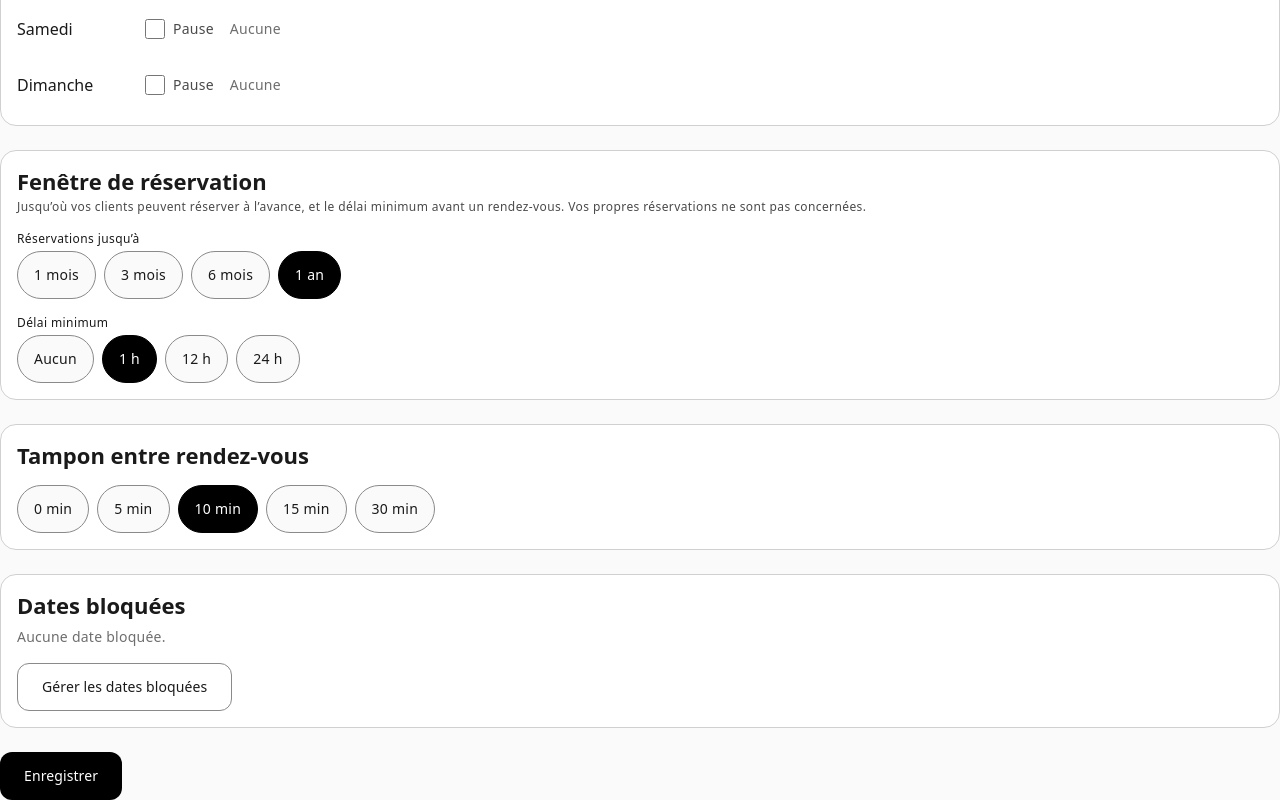
Test: §2.2 — blocked dates, the app’s flow › closing with changes asks first
(page scrolled)
Check: the heading "Fenêtre de réservation" is shown, box 17,166 -> 267,196
Click the button "Gérer les dates bloquées". click: [125, 687]
box: 17,663 -> 232,711
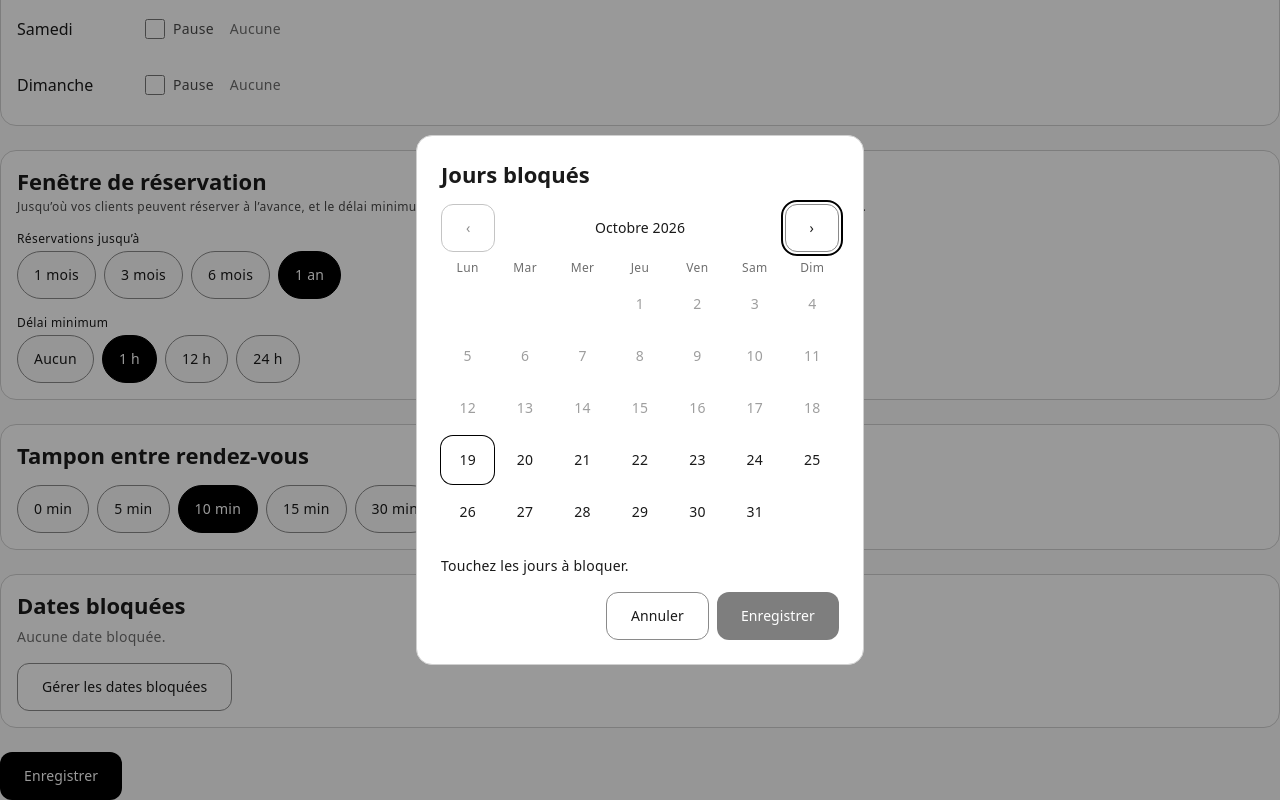
Click the button named "25 octobre 2026". click: [812, 460]
box: 786,436 -> 839,484
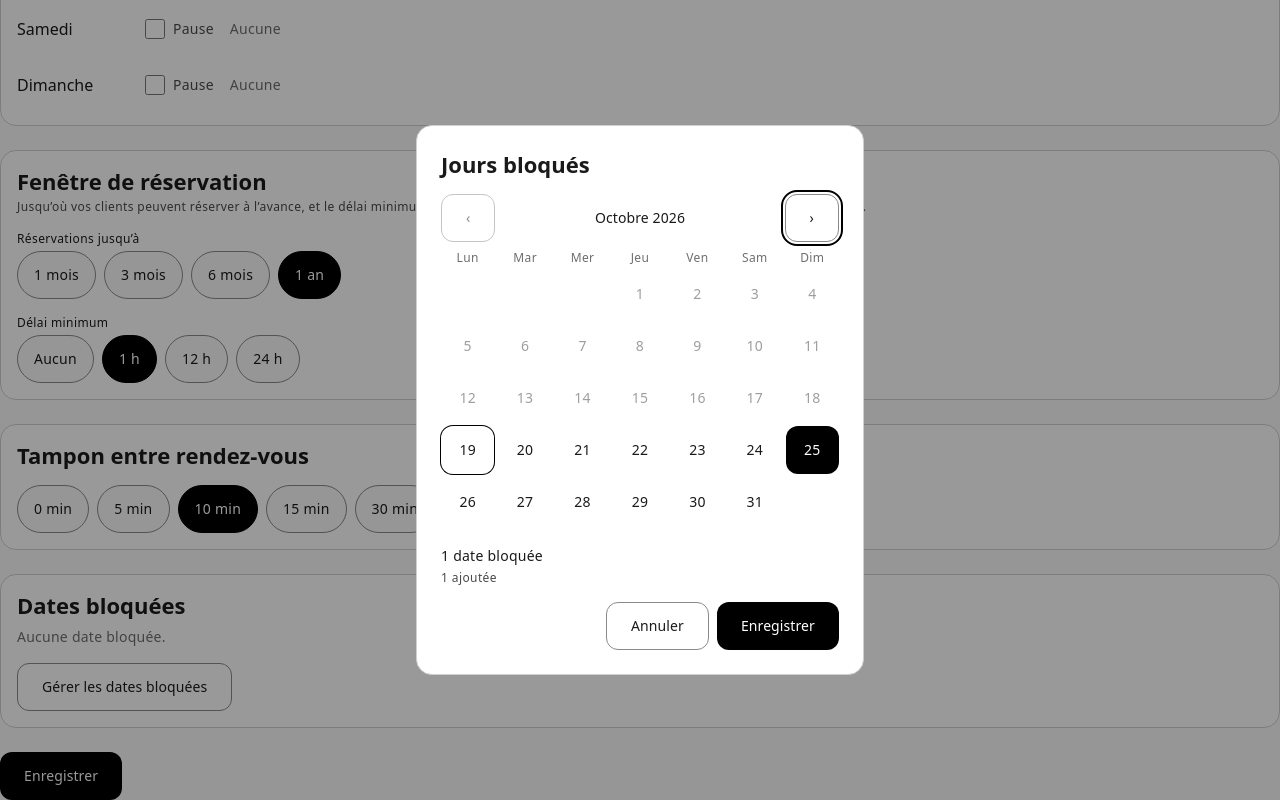
Click the button "Annuler". click: [657, 626]
box: 606,602 -> 709,650
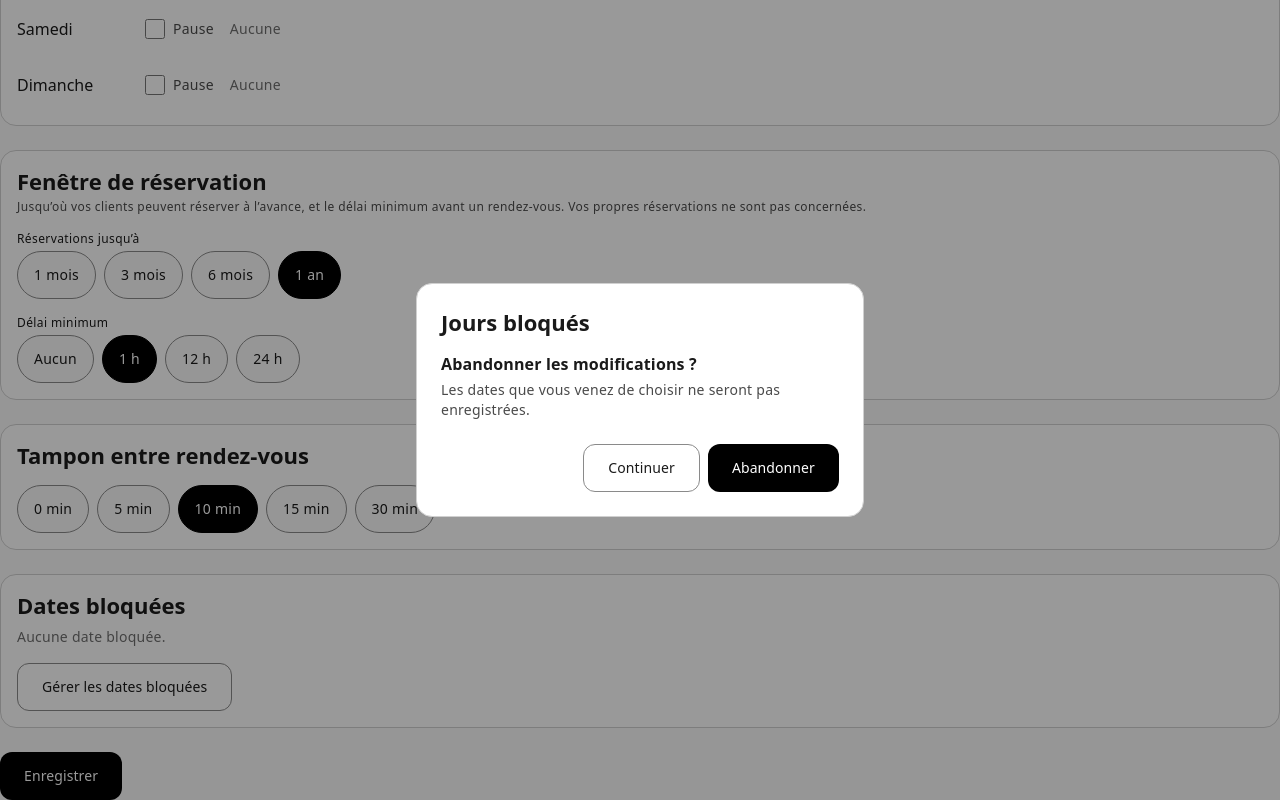
Check: the text "Abandonner les modifications ?" is shown, box 441,353 -> 697,375
Click the button "Abandonner". click: [773, 468]
box: 708,444 -> 839,492
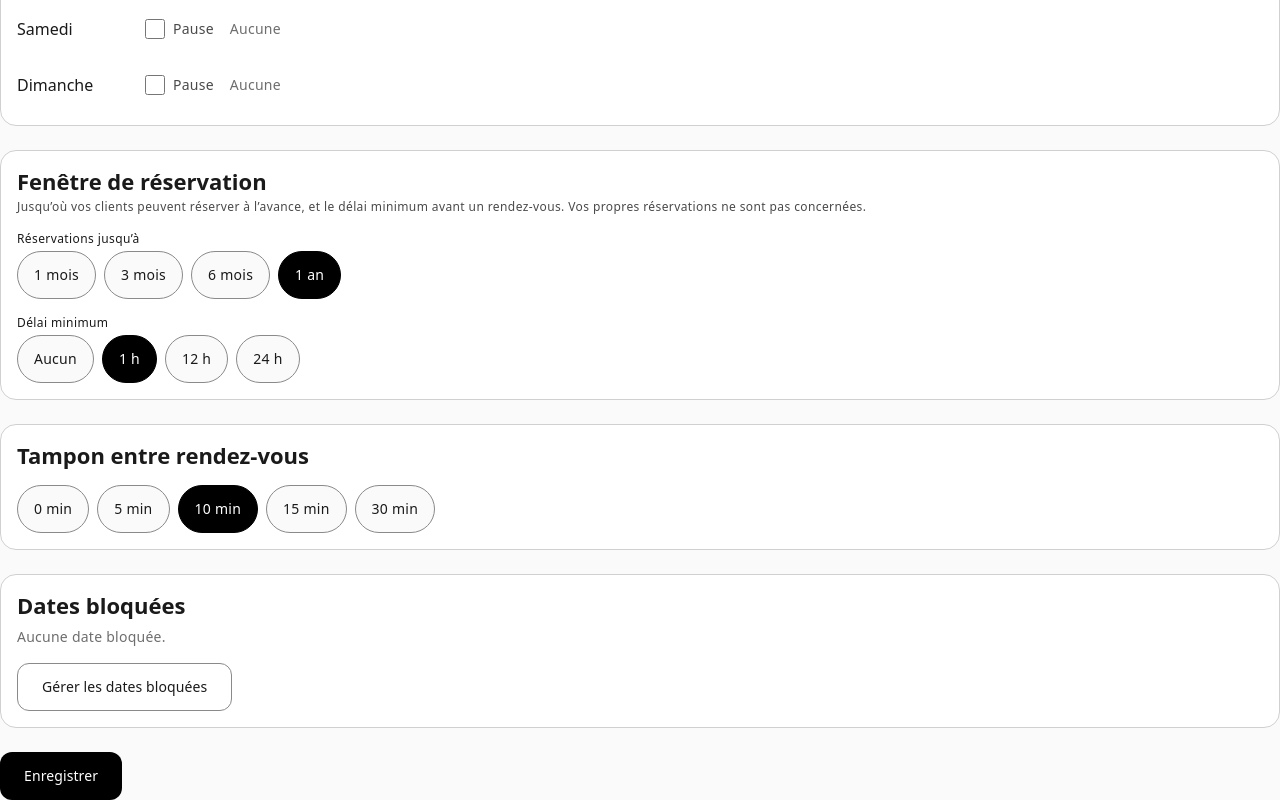
Check: the dialog is gone
